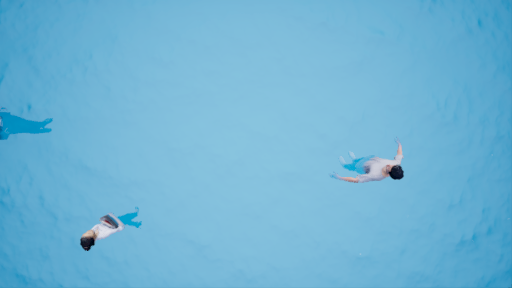person: (329, 134, 413, 190), (73, 202, 154, 255)
